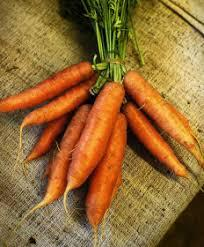Organic: (1, 1, 204, 245)
